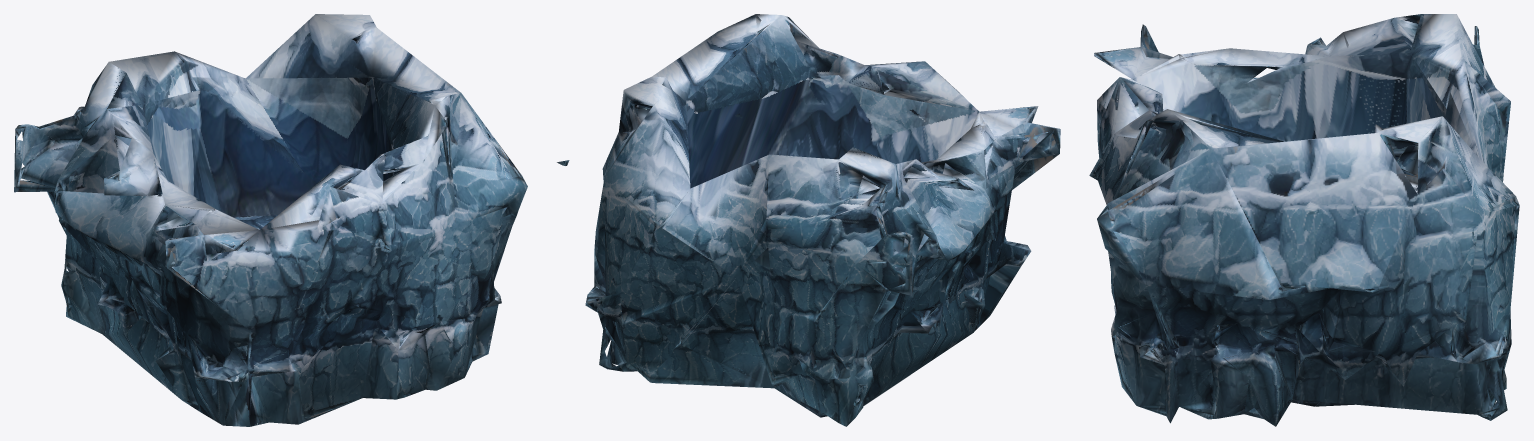
File: Tile_Ice_StairsDown.fbx
3 renders of one model, left to right at view 1: azimuth 30°, elevation 25°; view 2: azimuth 150°, elevation 25°; view 3: azimuth 270°, elevation 25°, orthographic. The views are drawn at different scales.
Visible parts, largest first — view 1: texture_mapping; view 2: texture_mapping; view 3: texture_mapping.
Part boxes in pixels (<box>): texture_mapping: <box>14,14,527,426</box>; texture_mapping: <box>557,14,1060,426</box>; texture_mapping: <box>1089,14,1519,426</box>.
Bounding box in the file's own units: 0.982 × 0.8689 × 0.7133.
1 material, 1 textured.
